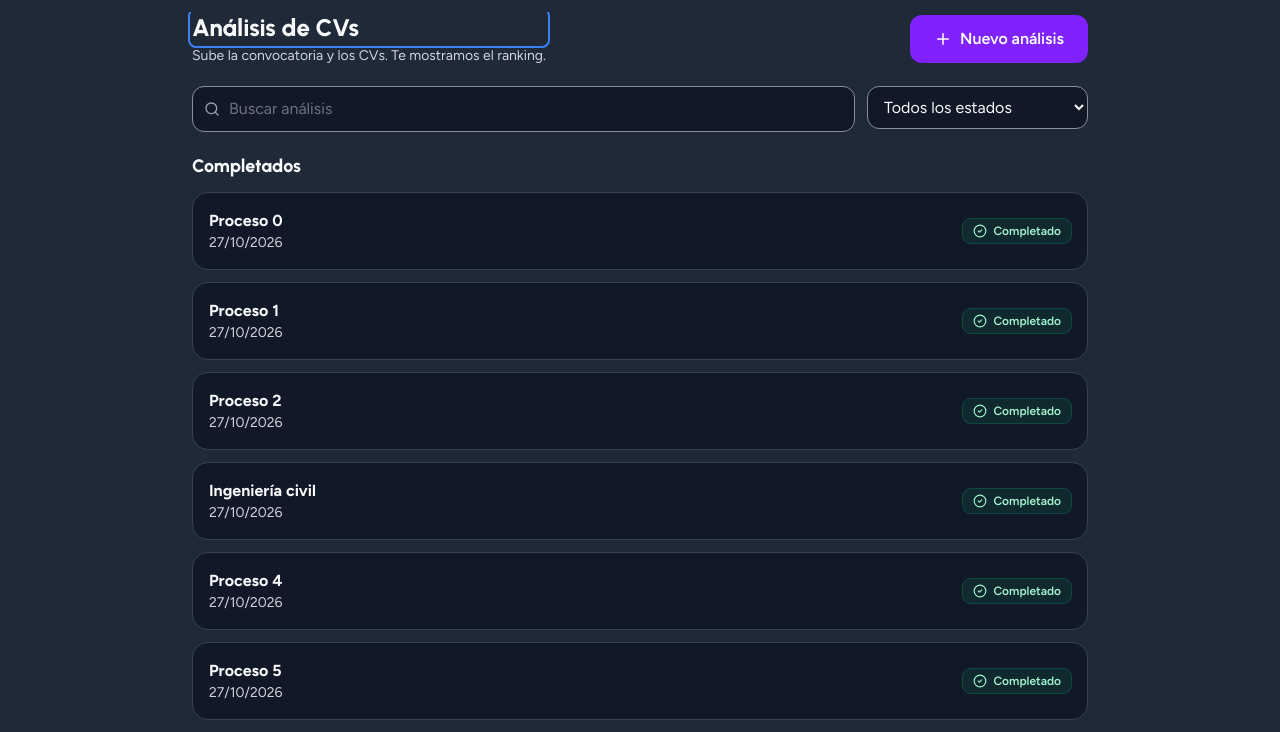
HRCVAnalysesListPage › con más de 6 análisis aparece la búsqueda y filtra por nombre sin acentos
This screenshot has width=1280, height=732.
Type "ingenieria" into the search field labelled "Buscar análisis" at (524, 109), box top-left (192, 86), bottom-right (855, 132)
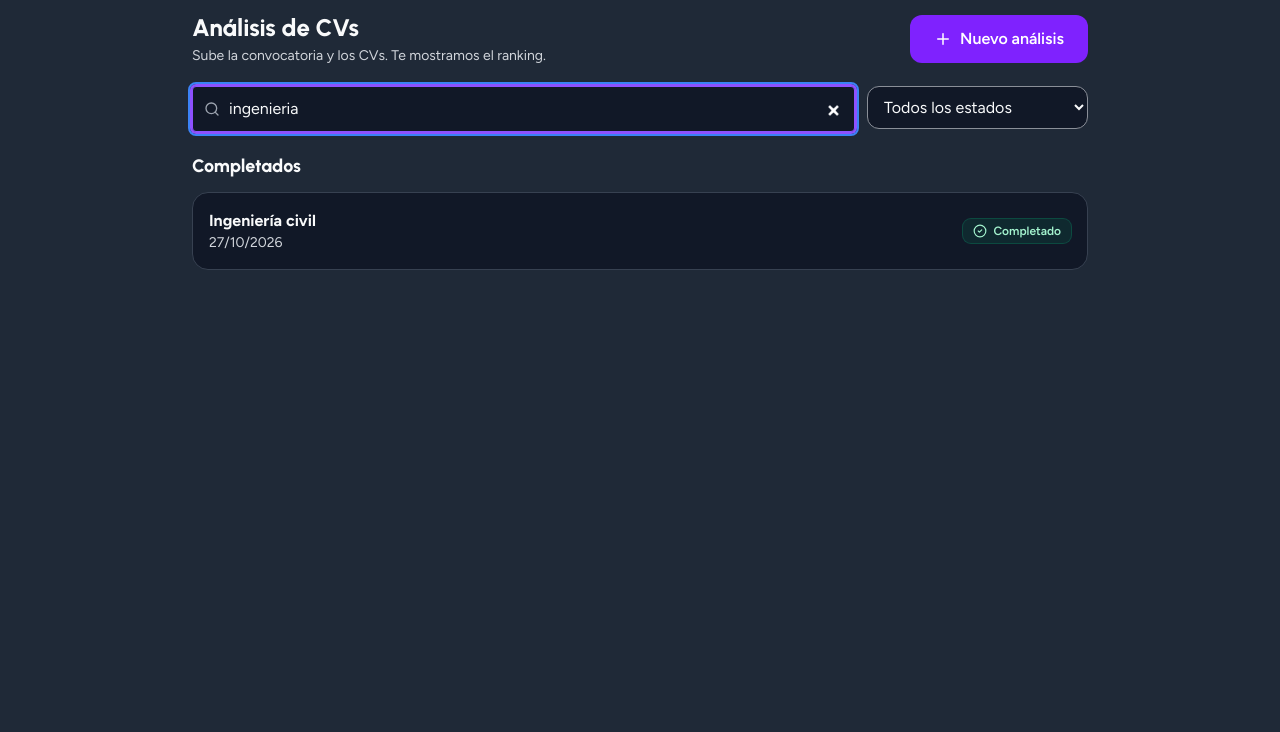
Expected: the link "Ingeniería civil" is shown, top-left (209, 209), bottom-right (316, 233)
Result: the link "Proceso 0" is gone
Replace the text in the search field named "Buscar análisis" with "zzz" at (524, 109), box top-left (192, 86), bottom-right (855, 132)
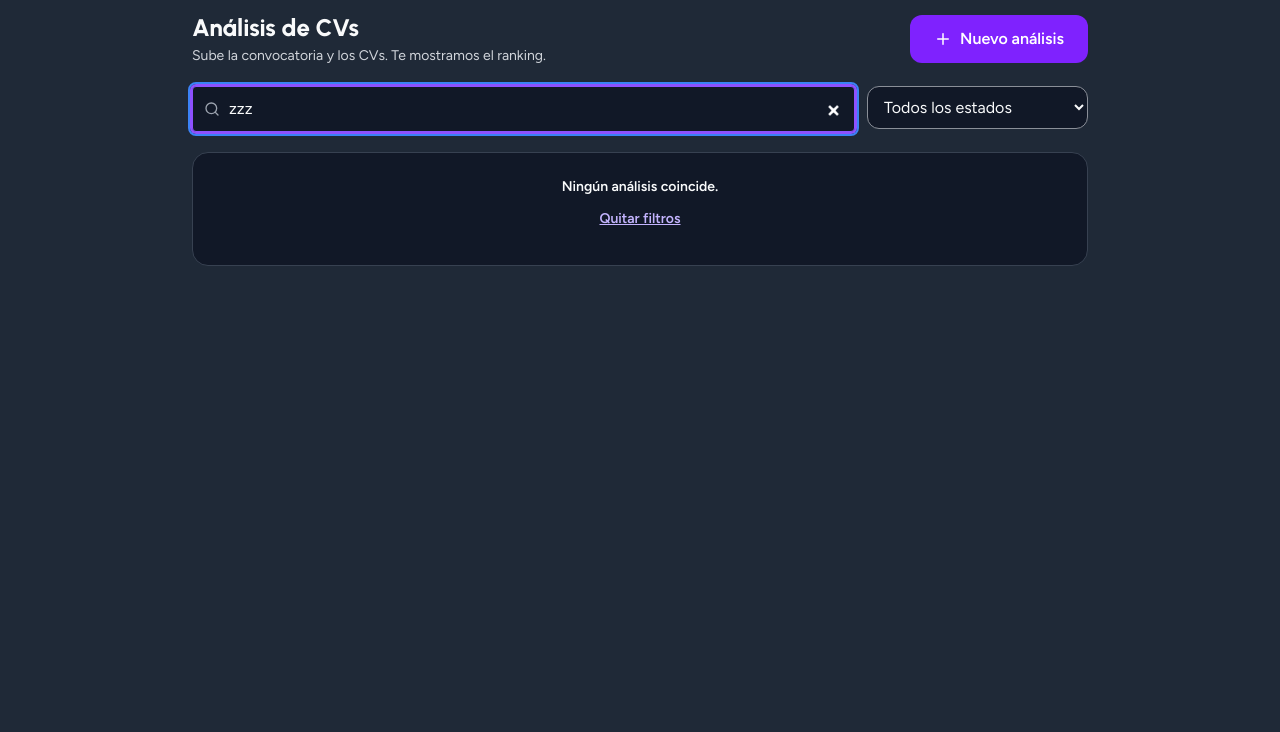
Result: the text "Ningún análisis coincide." is shown at top-left (562, 178), bottom-right (718, 195)
